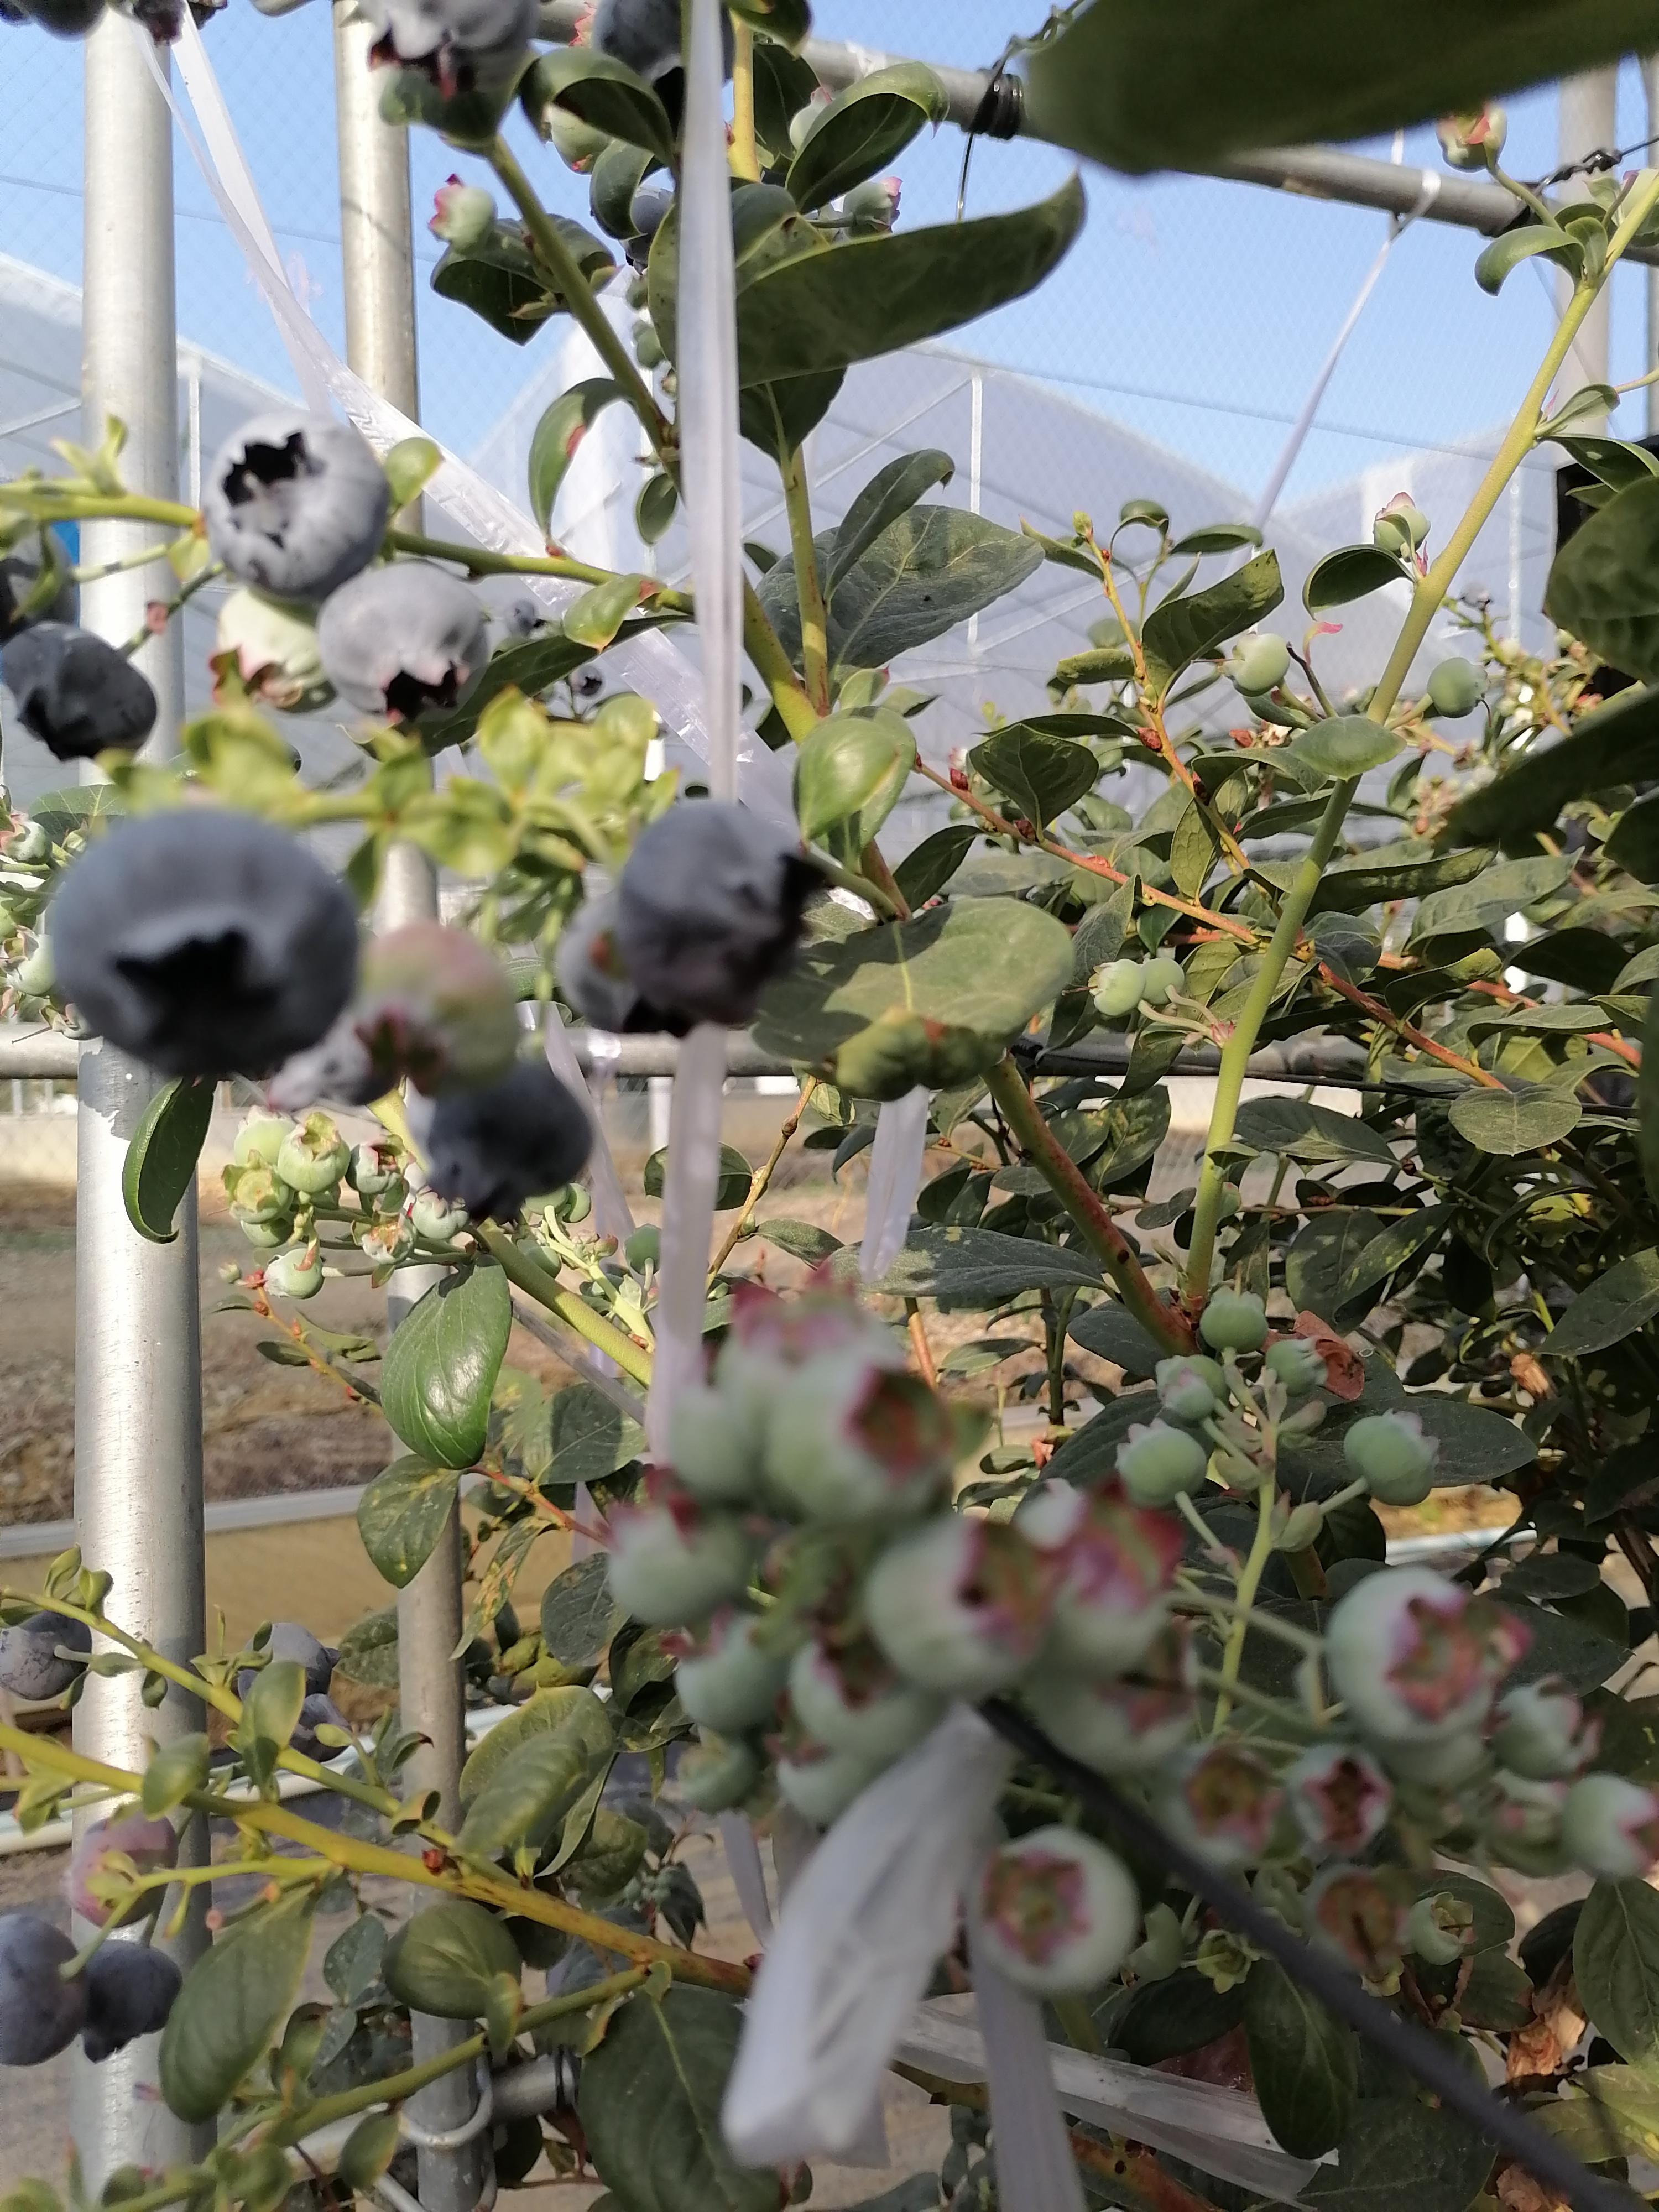ripe-blueberries: (47, 803, 362, 1082), (619, 794, 831, 1029), (199, 402, 394, 610), (315, 559, 498, 728), (429, 1059, 596, 1224), (0, 620, 160, 763), (357, 2, 544, 92), (0, 1909, 92, 2066), (82, 1937, 185, 2067), (0, 523, 84, 644), (237, 1618, 335, 1712), (0, 1608, 91, 1702), (565, 664, 603, 695)
